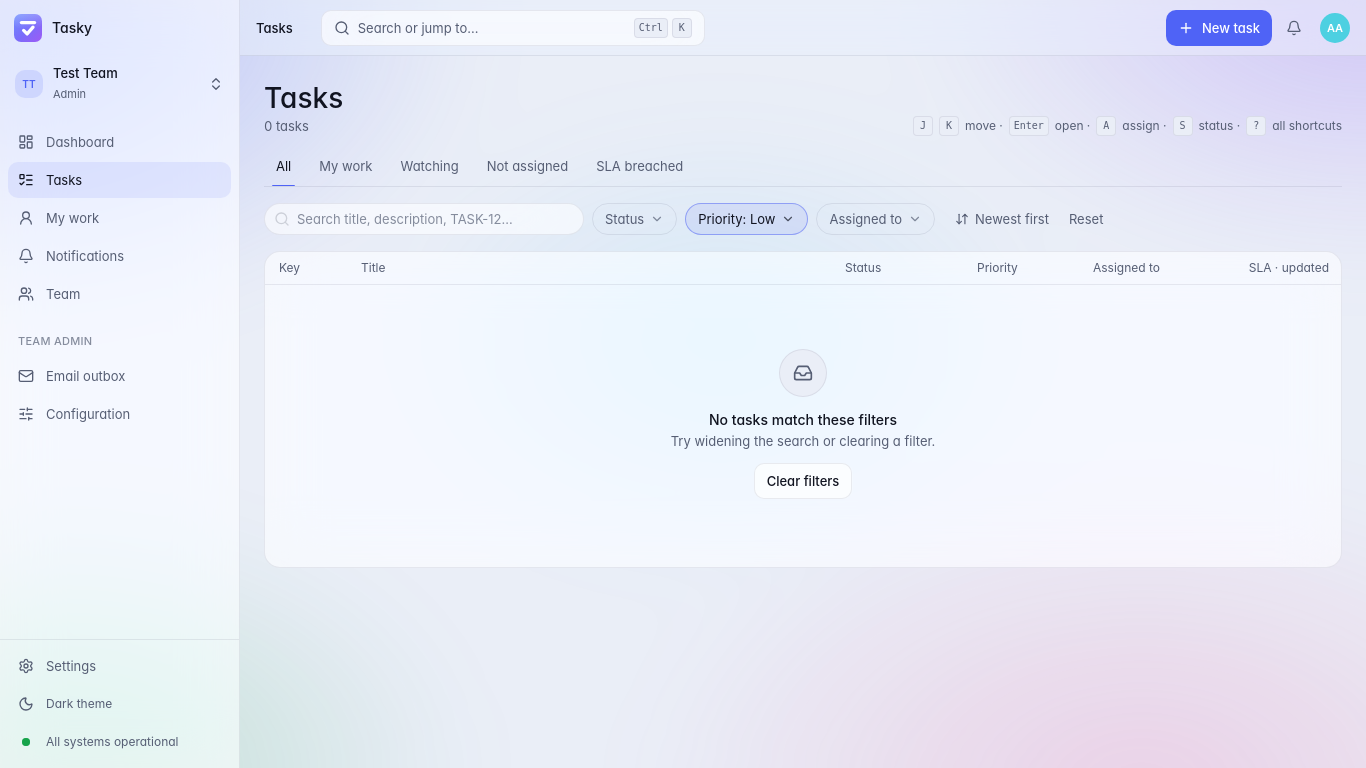
task list › shows an empty state that clears filters
The image size is (1366, 768).
expect the text "No tasks match these filters" is shown: met, box [709, 411, 897, 428]
Click the button "Clear filters" at {"x": 803, "y": 481}, box [754, 463, 852, 499]
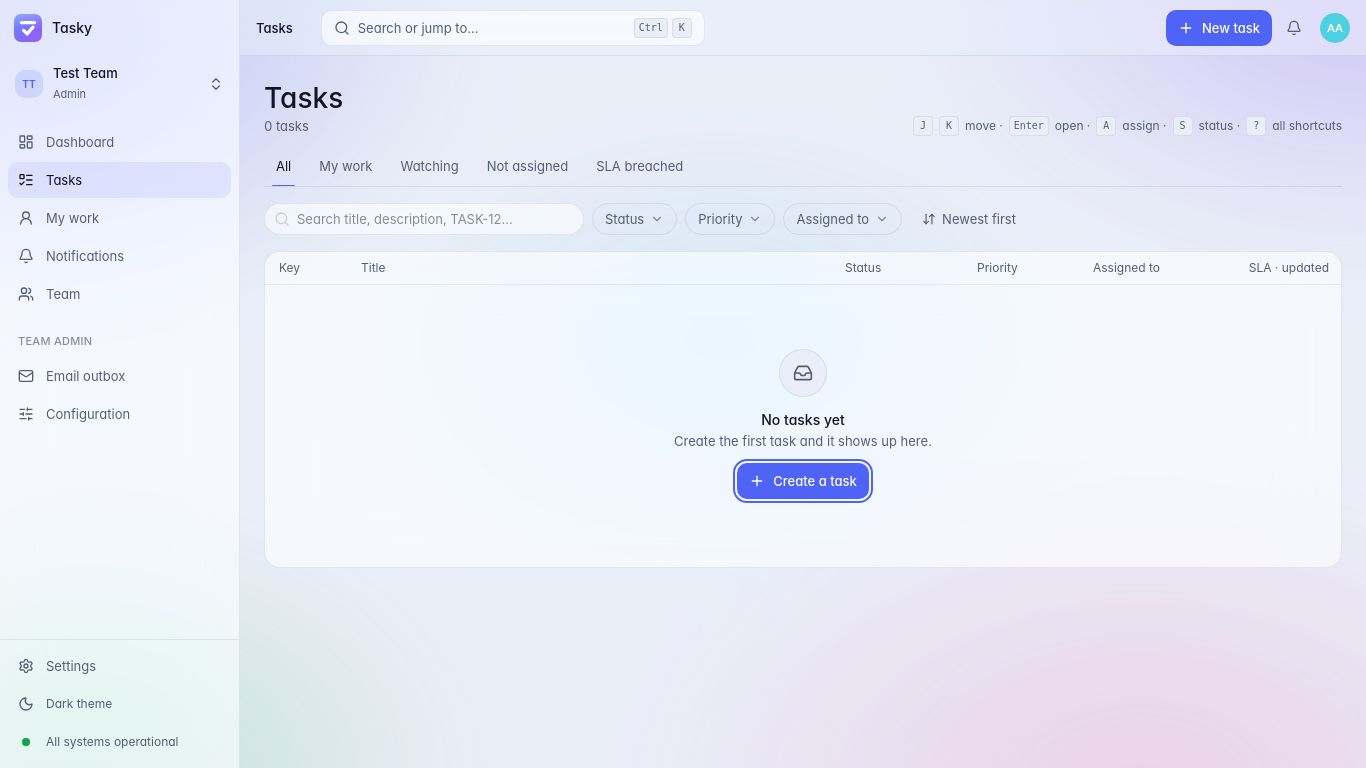
expect the text "No tasks yet" is shown: met, box [761, 411, 845, 428]
